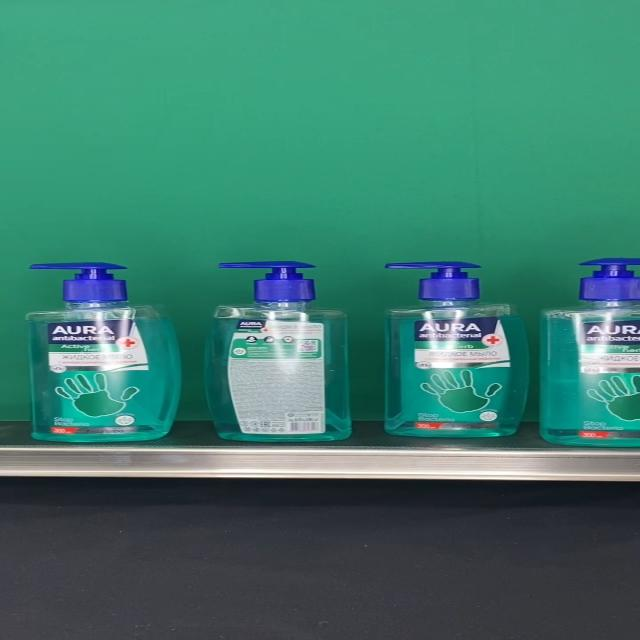Bottle: (25, 262, 183, 442), (205, 260, 352, 442), (382, 261, 530, 437)
Cap: (218, 260, 316, 302), (29, 262, 127, 302), (383, 262, 481, 302)
